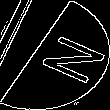N_NW: (14, 25, 96, 85)
